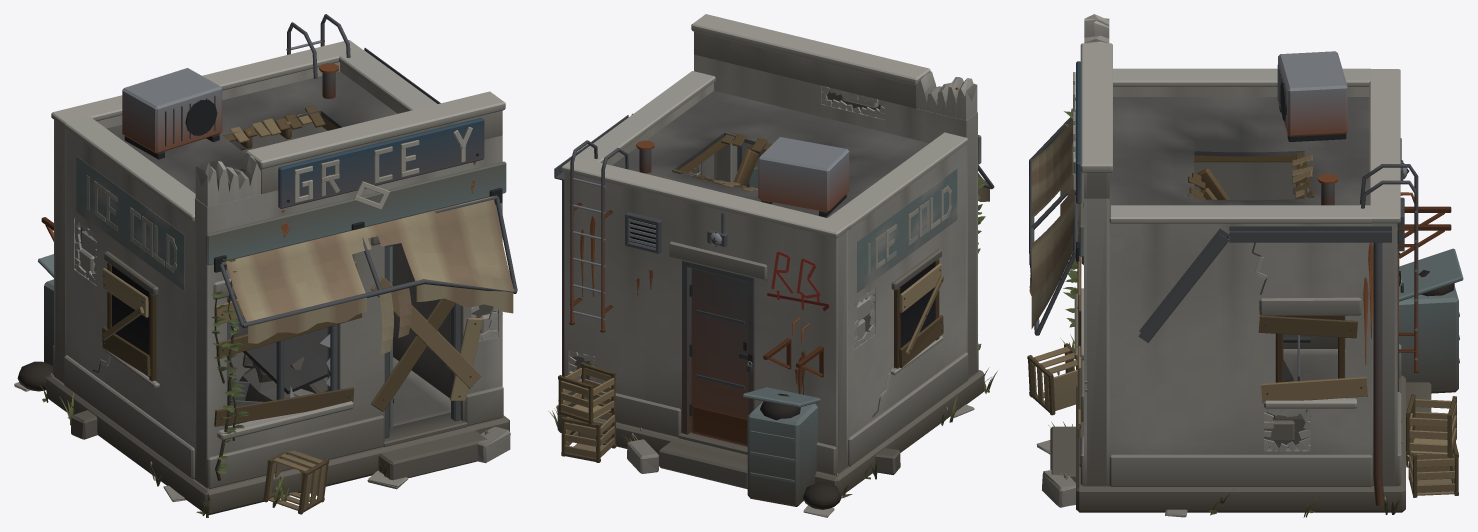
Rendered from boarded-store.glb.
3 views of the same model, side by side, from view 1: azimuth 30°, elevation 25°; view 2: azimuth 150°, elevation 25°; view 3: azimuth 270°, elevation 25° (orthographic). The views are drawn at different scales.
Visible parts, largest first — view 1: boarded_store; view 2: boarded_store; view 3: boarded_store.
Boxes of the visible parts, box(x1,y1,x2,y2) form: boarded_store: box(14, 14, 517, 517); boarded_store: box(548, 14, 997, 517); boarded_store: box(1027, 14, 1463, 517).
Size of the model in its own units: 3.42 by 3.37 by 3.75.
